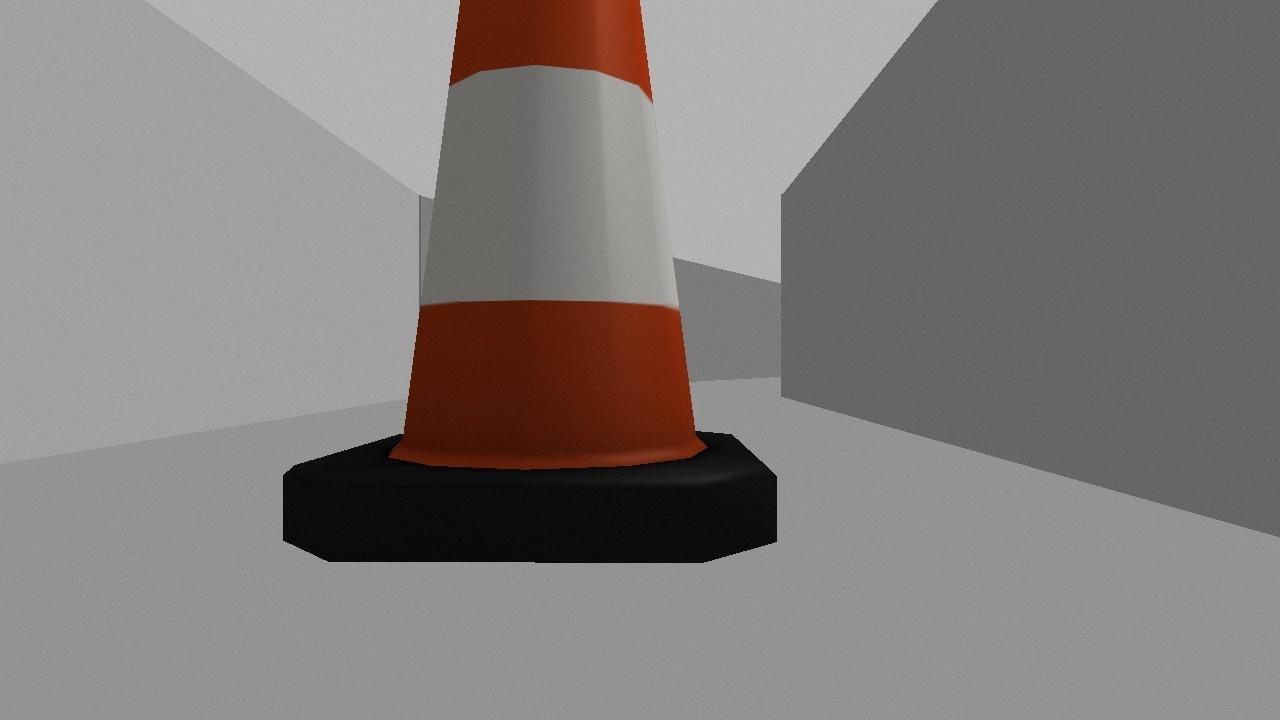cone_barrel: (280, 0, 777, 561)
